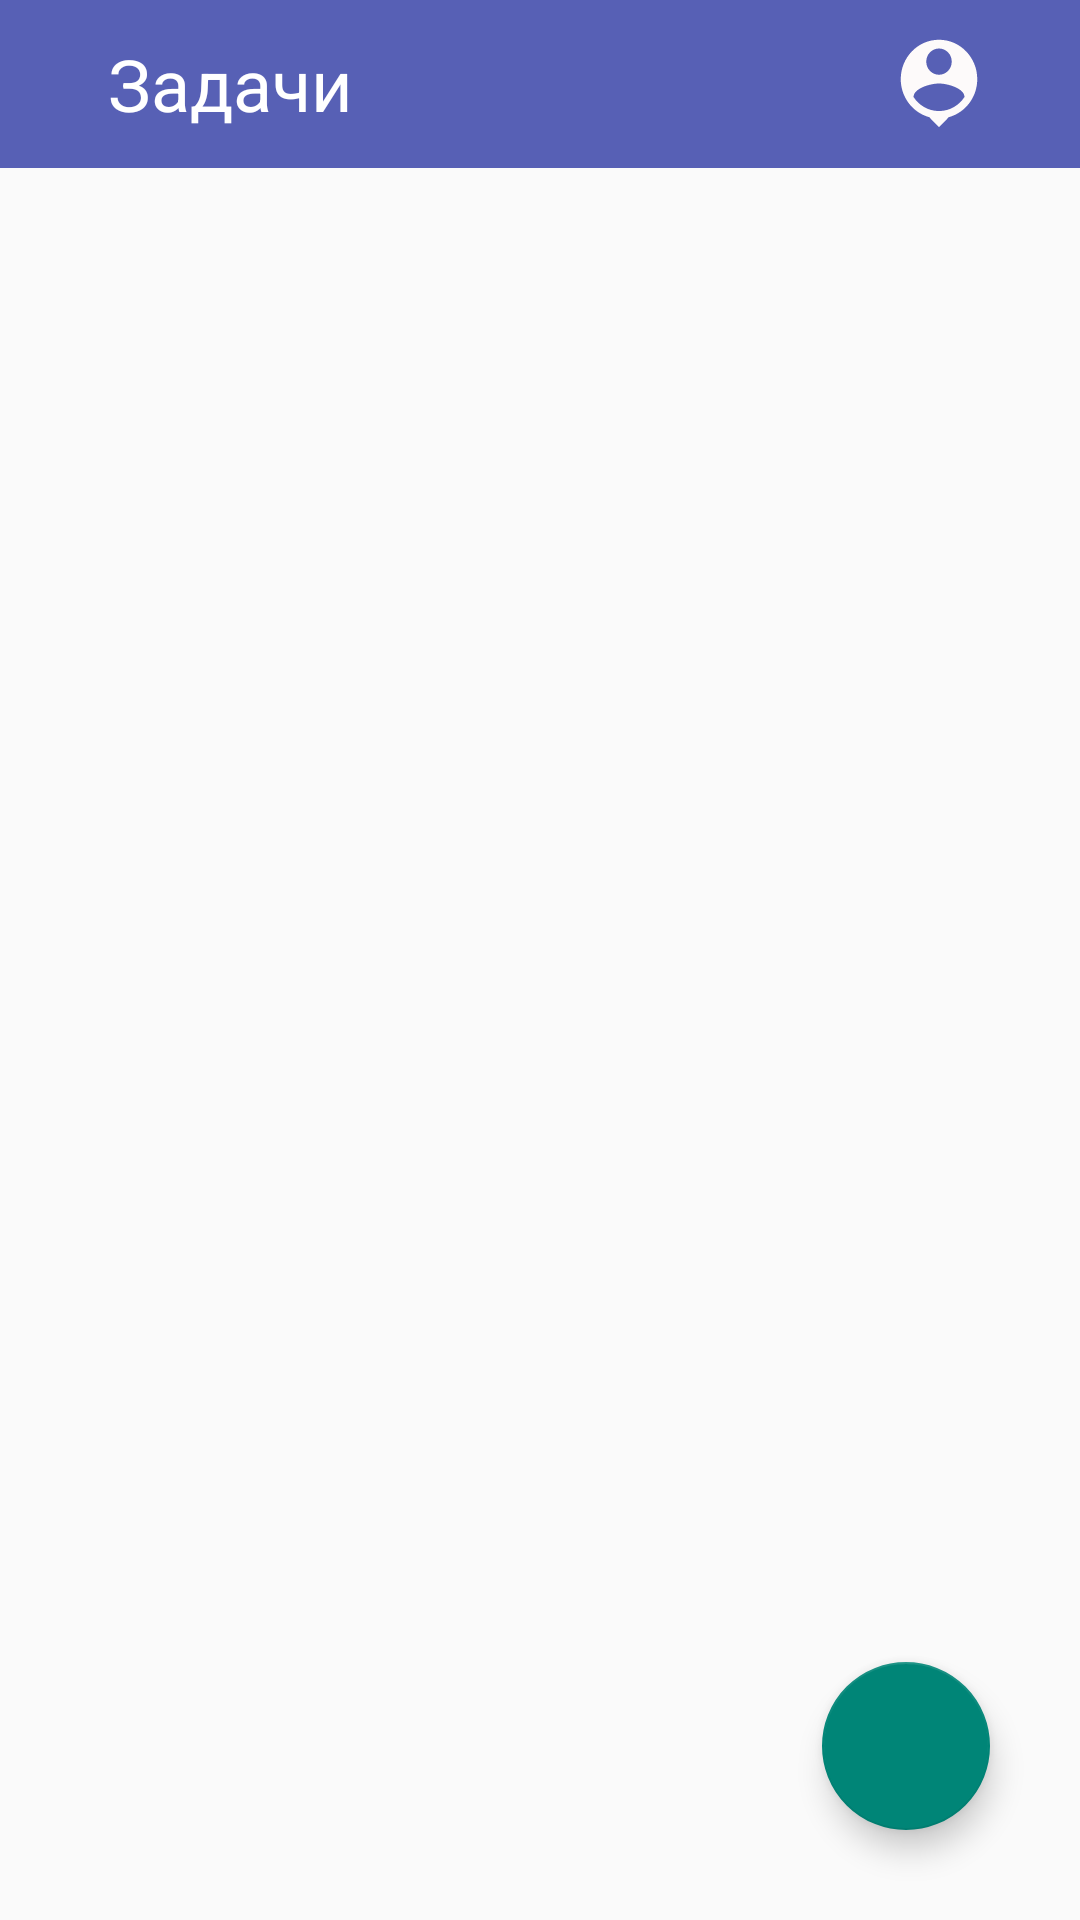

Icons on this 1080*1920 Android screen, each with its box as (x1, y1, x2, y2):
person pin: (900, 39, 978, 127)
